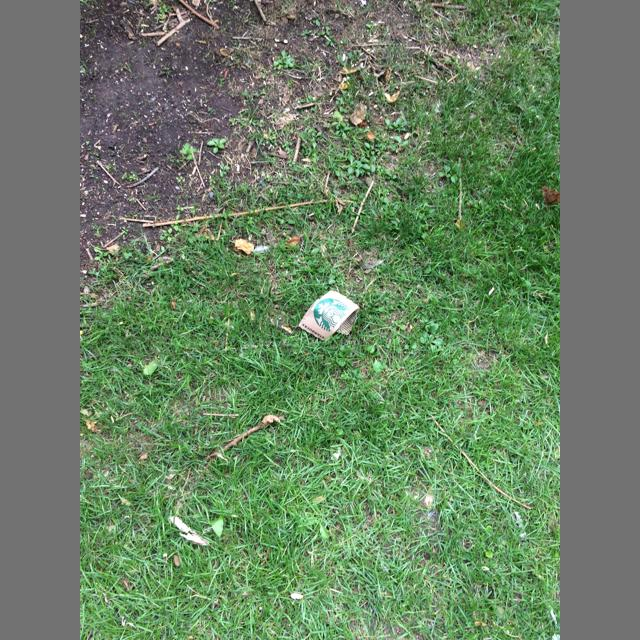litter: (299, 290, 360, 341)
